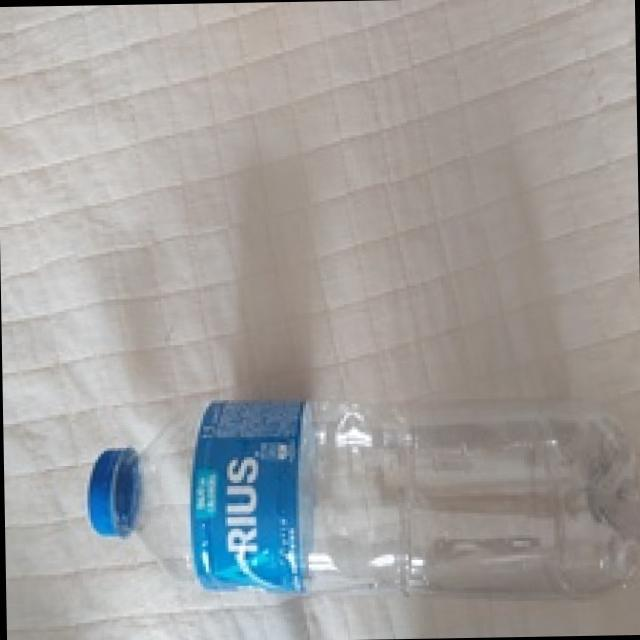good: (71, 367, 640, 592)
